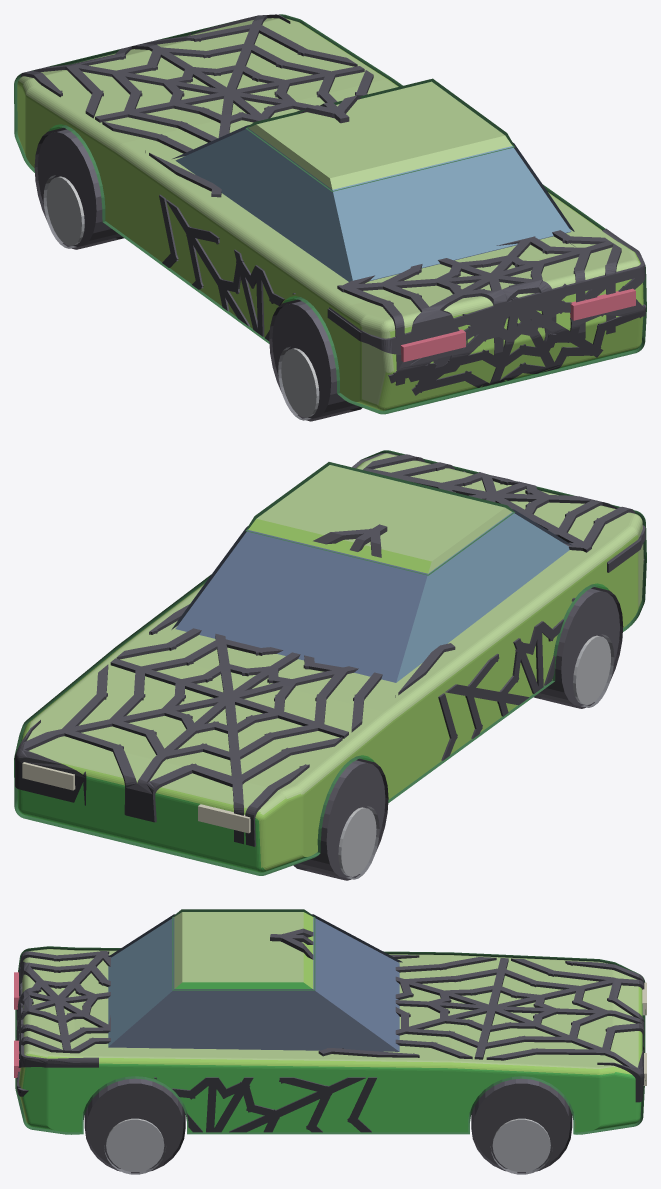
The model's file is car_brute_3.glb.
The picture shows the model from 3 angles, top to bottom: view 1: azimuth 30°, elevation 25°; view 2: azimuth 150°, elevation 25°; view 3: azimuth 270°, elevation 25°; orthographic projection. The views are drawn at different scales.
Parts seen in each view (by area): view 1: car; view 2: car; view 3: car.
Boxes of the visible parts, <box> form: car: <box>14,14,646,421</box>; car: <box>14,450,646,880</box>; car: <box>14,909,646,1174</box>.
Size of the model in its own units: 2.11 by 1.4 by 4.7.
